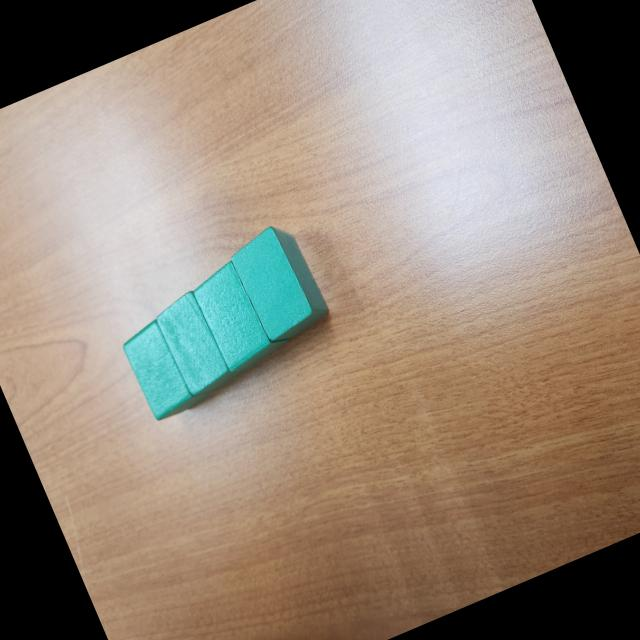green: (224, 216, 334, 348), (186, 252, 294, 378), (116, 308, 216, 424), (150, 282, 246, 402)
